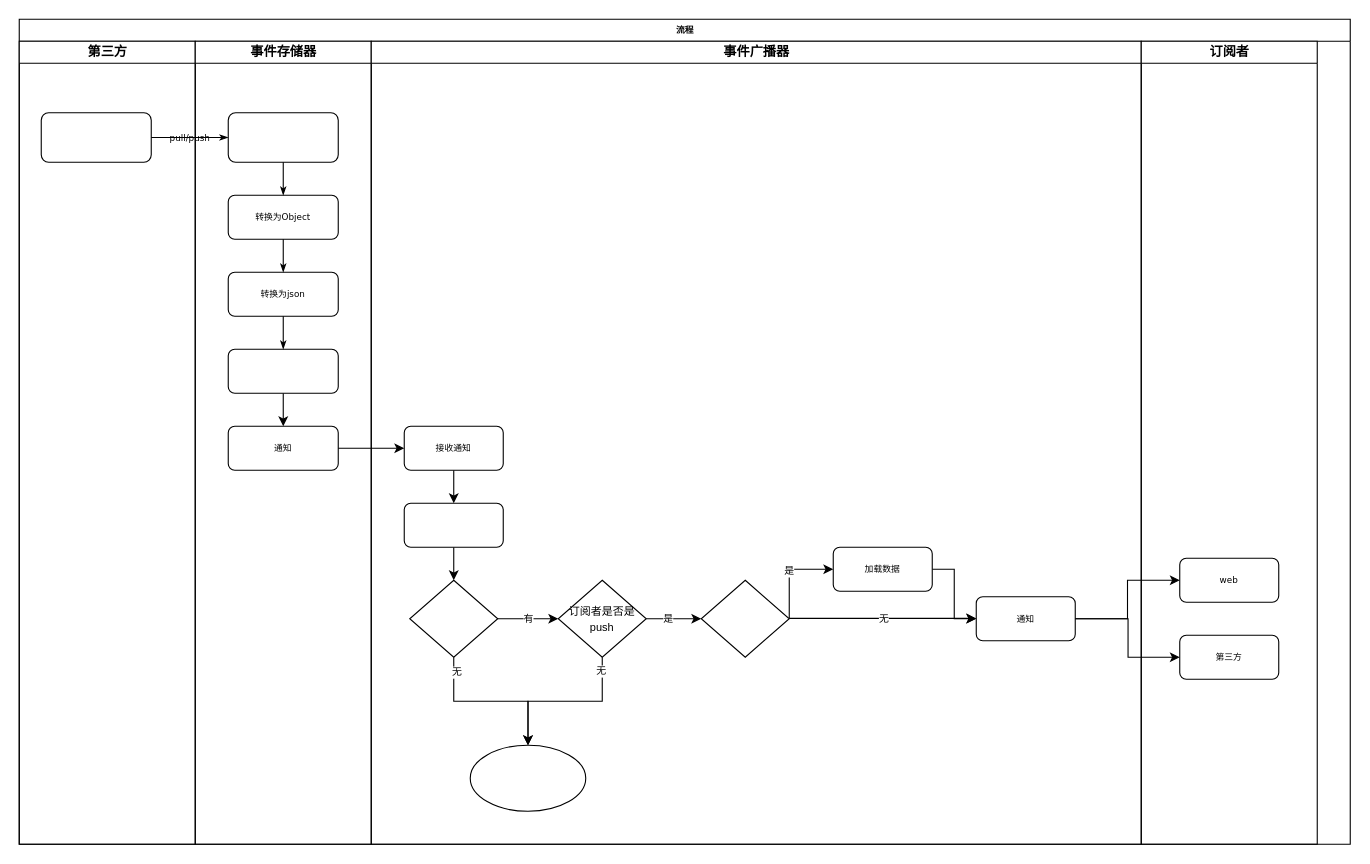
Some shapes in this 1370 by 864 pixel diagram are drawn without their labels. Here are the shapes that lost their labels. From the top down, the centre of each, then its label:
the point at 95,137: 第三方/rcs/内部服务
the point at 282,137: 接收
the point at 282,370: 存储DB
the point at 453,524: 主题
the point at 453,618: 是否有订阅者
the point at 744,618: 根据push/pull是否需要加载其它数据
the point at 527,777: 结束
